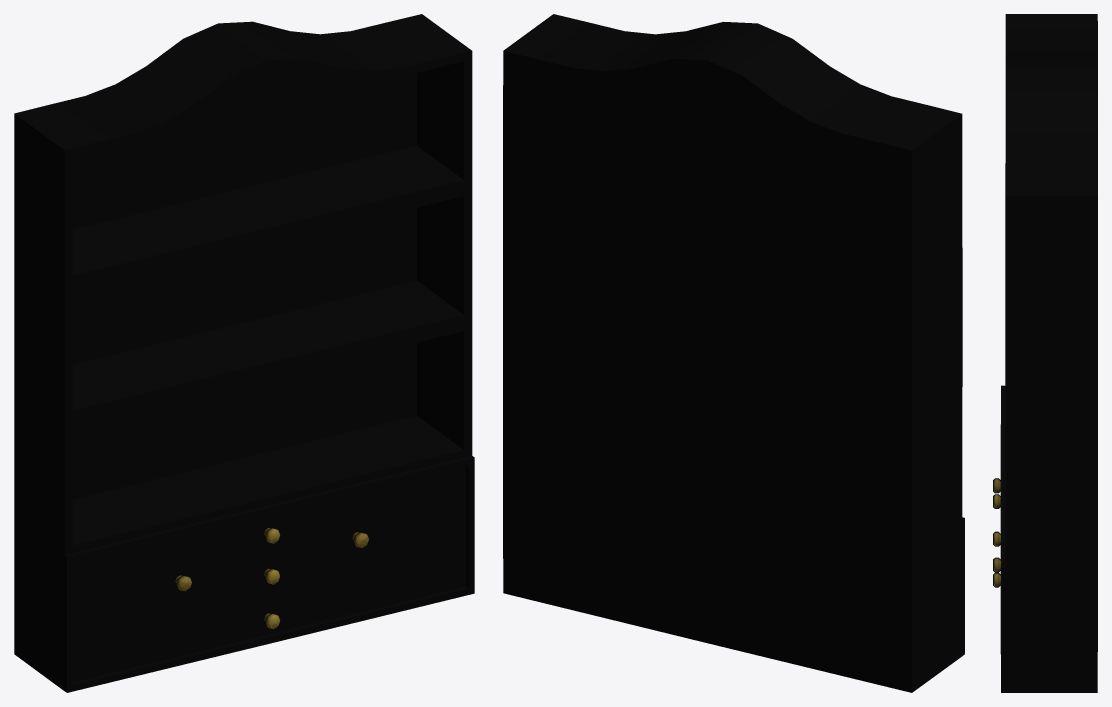
File: Book Shelf.fbx
3 renders of one model, left to right at view 1: azimuth 30°, elevation 25°; view 2: azimuth 150°, elevation 25°; view 3: azimuth 270°, elevation 25°, orthographic. The views are drawn at different scales.
Parts seen in each view (by area): view 1: Book Shelf; view 2: Book Shelf; view 3: Book Shelf.
Part boxes in pixels (box(x1,y1,x2,y2)): Book Shelf: box(14, 14, 474, 692); Book Shelf: box(503, 14, 964, 692); Book Shelf: box(993, 14, 1097, 692).
Size of the model in its own units: 250 by 341 by 60.63.
